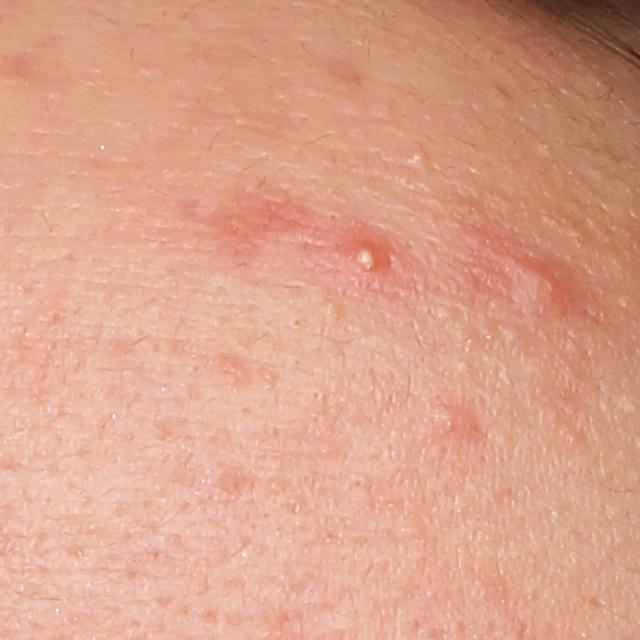comedo: (406, 148, 431, 170), (323, 296, 345, 318), (310, 386, 324, 403), (290, 315, 304, 331)
papule: (492, 245, 572, 321), (437, 403, 467, 430)
pustule: (352, 240, 381, 276)
